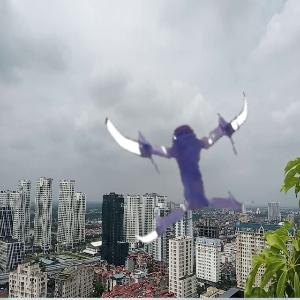drone: (104, 73, 269, 238)
